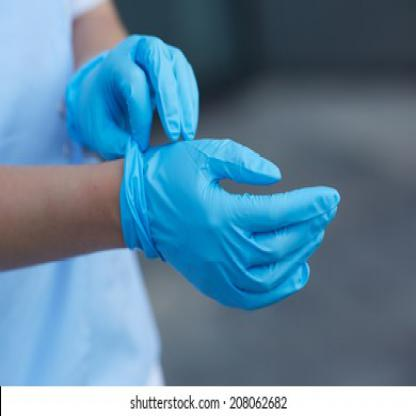with_gloves: (122, 137, 342, 309), (64, 34, 201, 161)
